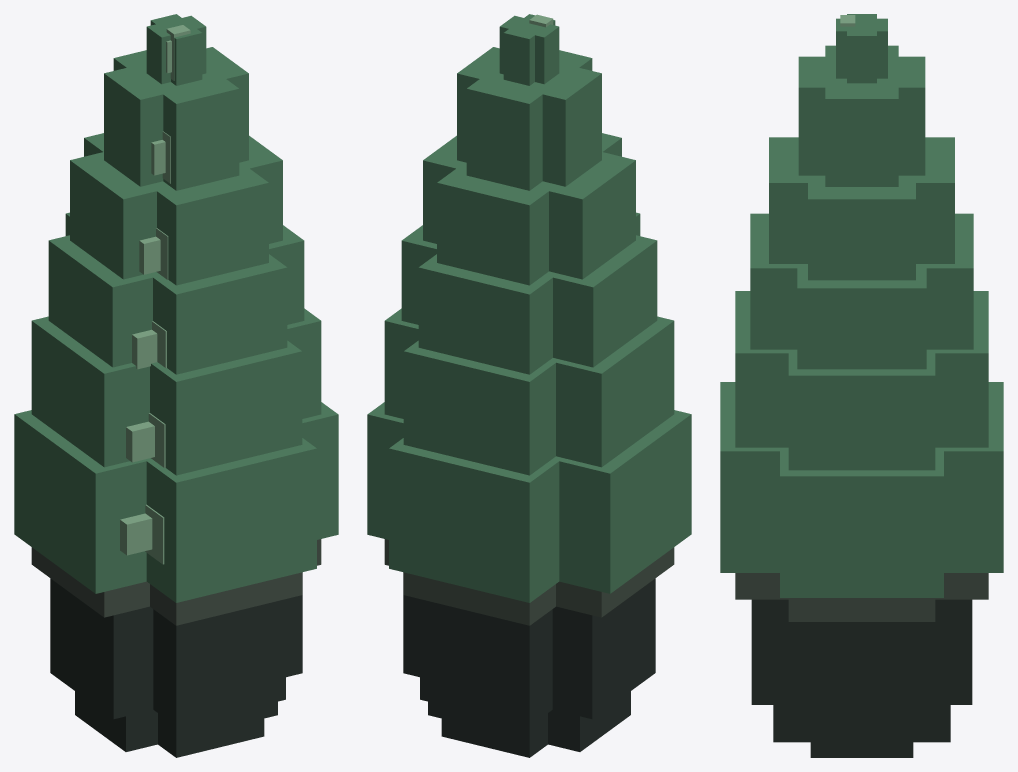
File: CMU3DPottedPlant22.glb
3 renders of one model, left to right at view 1: azimuth 30°, elevation 25°; view 2: azimuth 150°, elevation 25°; view 3: azimuth 270°, elevation 25°, orthographic.
Parts seen in each view (by area): view 1: tapered evergreen foliage (×17), pot body (×3), pot rim (×2), tapered pot foot (×2), leaf tip (×4), leaf center (×2); view 2: tapered evergreen foliage (×17), pot body (×3), pot rim (×2), tapered pot foot (×2); view 3: tapered evergreen foliage (×12), pot body (×2), pot rim (×2), tapered pot foot (×2).
Part boxes in pixels (<box>): tapered evergreen foliage (×17): <box>14,14,338,602</box>; pot body (×3): <box>50,572,302,726</box>; pot rim (×2): <box>31,547,302,625</box>; tapered pot foot (×2): <box>75,691,264,757</box>; leaf tip (×4): <box>120,236,160,555</box>; leaf center (×2): <box>145,413,165,564</box>; tapered evergreen foliage (×17): <box>367,14,691,602</box>; pot body (×3): <box>403,572,655,726</box>; pot rim (×2): <box>403,547,674,625</box>; tapered pot foot (×2): <box>441,691,630,757</box>; tapered evergreen foliage (×12): <box>720,18,1003,597</box>; pot body (×2): <box>751,599,972,724</box>; pot rim (×2): <box>735,573,988,621</box>; tapered pot foot (×2): <box>773,705,950,757</box>.
Bounding box in the file's own units: 0.38 × 1.03 × 0.38.
